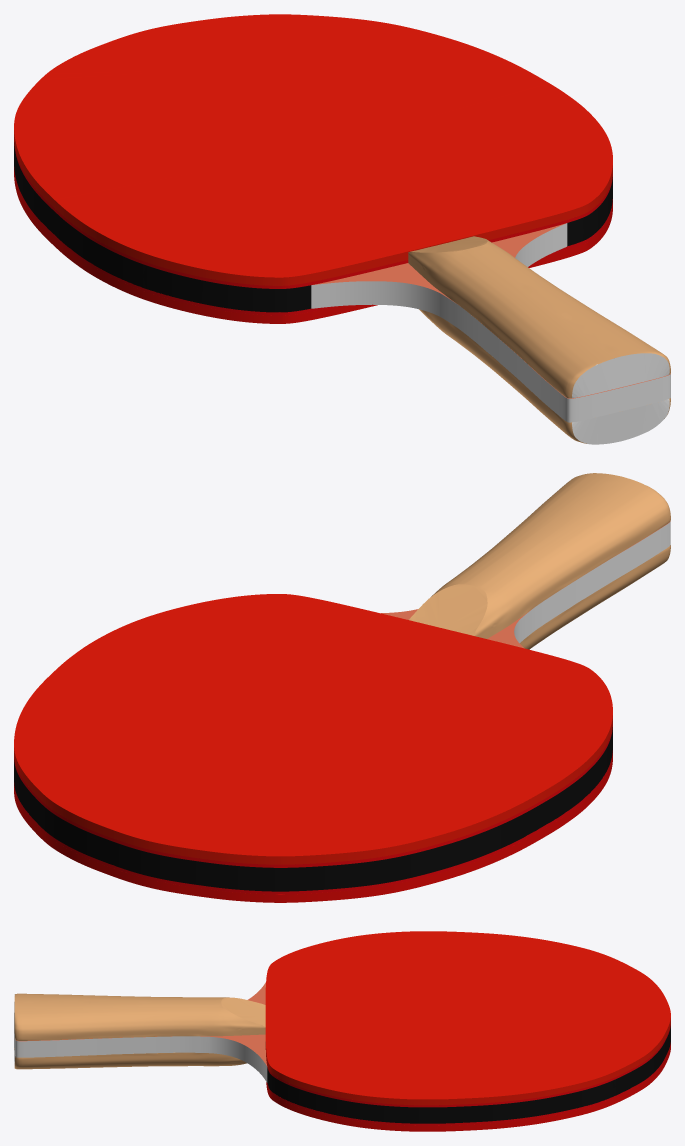
File: racket-1.glb
The picture shows the model from 3 angles, top to bottom: view 1: azimuth 30°, elevation 25°; view 2: azimuth 150°, elevation 25°; view 3: azimuth 270°, elevation 25°; orthographic projection. The views are drawn at different scales.
Visible parts, largest first — view 1: head-layer_red2.000_Plane.002, handle1.001_Plane.009, handle.001_Plane.029, head-wood.000_Plane.001, handle1.000_Plane.022, head-layer_red2.001_Plane.023, head-layer_red2.002_Plane.024, head-layer_red2.003_Plane.025; view 2: head-layer_red2.000_Plane.002, handle1.001_Plane.009, head-wood.000_Plane.001, head-layer_red2.001_Plane.023, handle.001_Plane.029, head-layer_red2.002_Plane.024, head-layer_red2.003_Plane.025, handle1.000_Plane.022; view 3: head-layer_red2.000_Plane.002, handle1.001_Plane.009, head-wood.000_Plane.001, handle.001_Plane.029, handle1.000_Plane.022, head-layer_red2.001_Plane.023, head-layer_red2.003_Plane.025, head-layer_red2.002_Plane.024.
Boxes of the visible parts, box(x1,y1,x2,y2) form: head-layer_red2.000_Plane.002: box(14, 14, 612, 285); handle1.001_Plane.009: box(408, 236, 670, 398); handle.001_Plane.029: box(311, 223, 670, 422); head-wood.000_Plane.001: box(14, 142, 612, 312); handle1.000_Plane.022: box(419, 309, 670, 444); head-layer_red2.001_Plane.023: box(14, 169, 612, 323); head-layer_red2.002_Plane.024: box(14, 139, 612, 288); head-layer_red2.003_Plane.025: box(14, 167, 612, 315); head-layer_red2.000_Plane.002: box(14, 594, 612, 864); handle1.001_Plane.009: box(409, 473, 670, 638); head-wood.000_Plane.001: box(14, 727, 612, 891); head-layer_red2.001_Plane.023: box(14, 754, 612, 902); handle.001_Plane.029: box(381, 521, 670, 648); head-layer_red2.002_Plane.024: box(14, 724, 612, 867); head-layer_red2.003_Plane.025: box(14, 750, 612, 894); handle1.000_Plane.022: box(520, 545, 670, 649); head-layer_red2.000_Plane.002: box(265, 931, 670, 1105); handle1.001_Plane.009: box(14, 993, 265, 1040); head-wood.000_Plane.001: box(267, 1026, 670, 1123); handle.001_Plane.029: box(14, 982, 267, 1082); handle1.000_Plane.022: box(14, 1048, 246, 1069); head-layer_red2.001_Plane.023: box(266, 1044, 670, 1131); head-layer_red2.003_Plane.025: box(267, 1042, 670, 1125); head-layer_red2.002_Plane.024: box(265, 1023, 670, 1107).
Size of the model in its own units: 0.1537 by 0.0252 by 0.2541.
